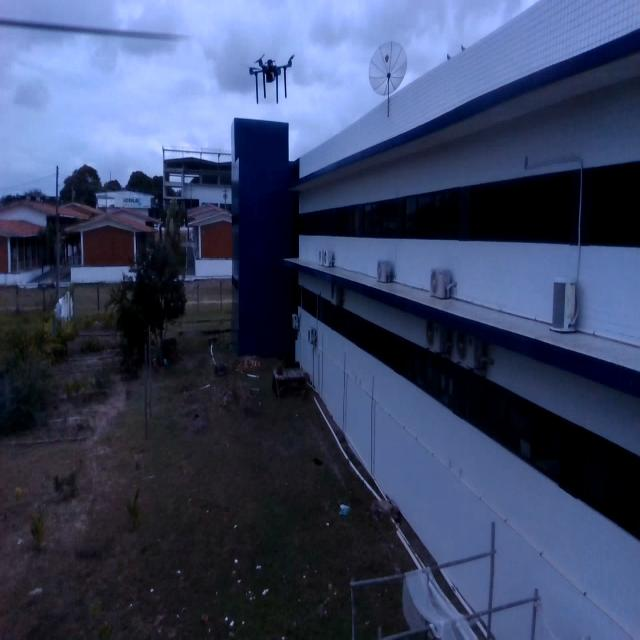-uav-: (244, 45, 296, 114)
